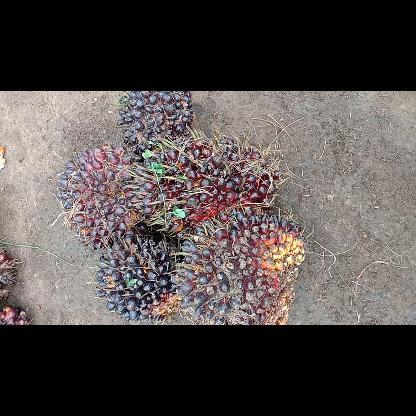TBS mentah: (132, 130, 282, 246), (169, 204, 306, 324), (54, 144, 160, 250), (92, 223, 184, 324), (113, 91, 197, 153)
